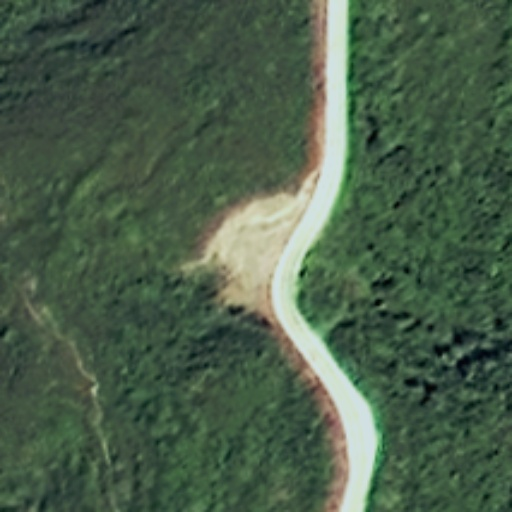landslide: (207, 194, 307, 310)
